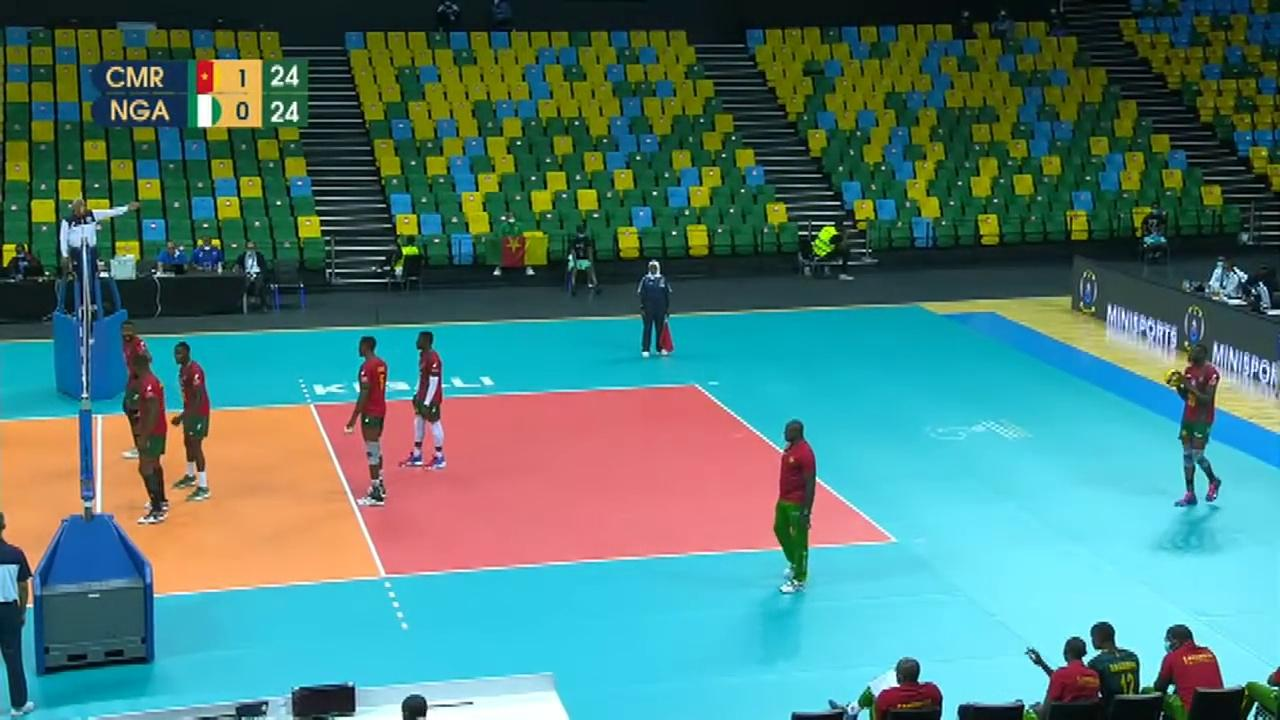player: (1169, 345, 1225, 505), (345, 336, 389, 509), (128, 355, 171, 524), (171, 341, 214, 502), (403, 329, 448, 470), (119, 319, 162, 459)
refree: (0, 507, 41, 717), (60, 195, 108, 310), (634, 261, 672, 358)
